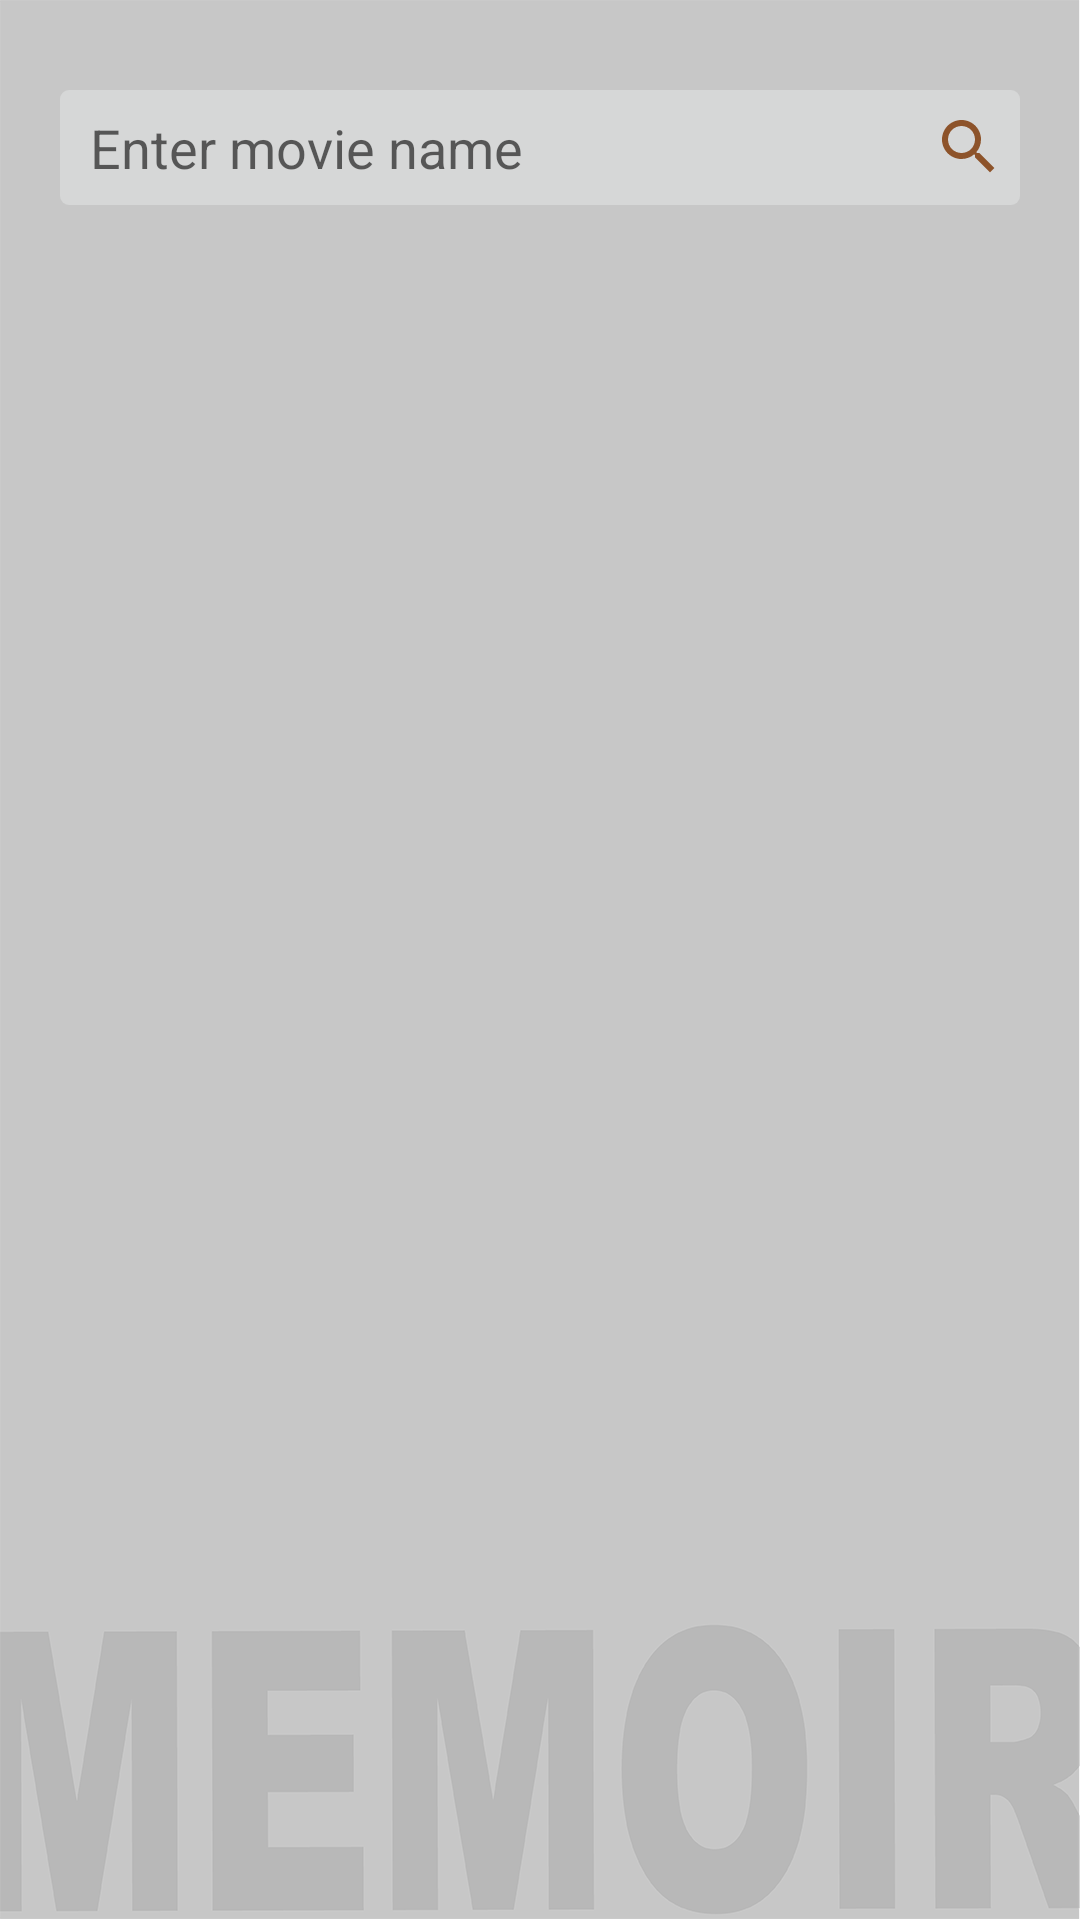

Where to tap for icons on this 1080x1920 app screen, as point (x, y):
search: point (968, 146)
